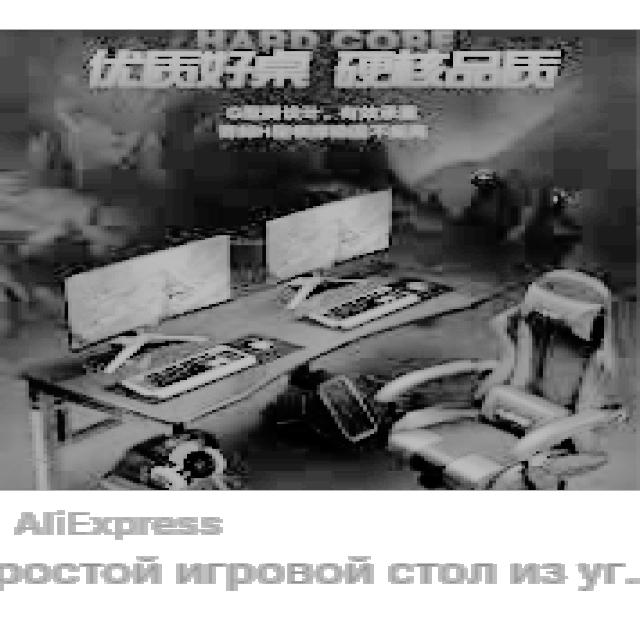book: (370, 267, 626, 488)
table: (12, 240, 574, 477)
